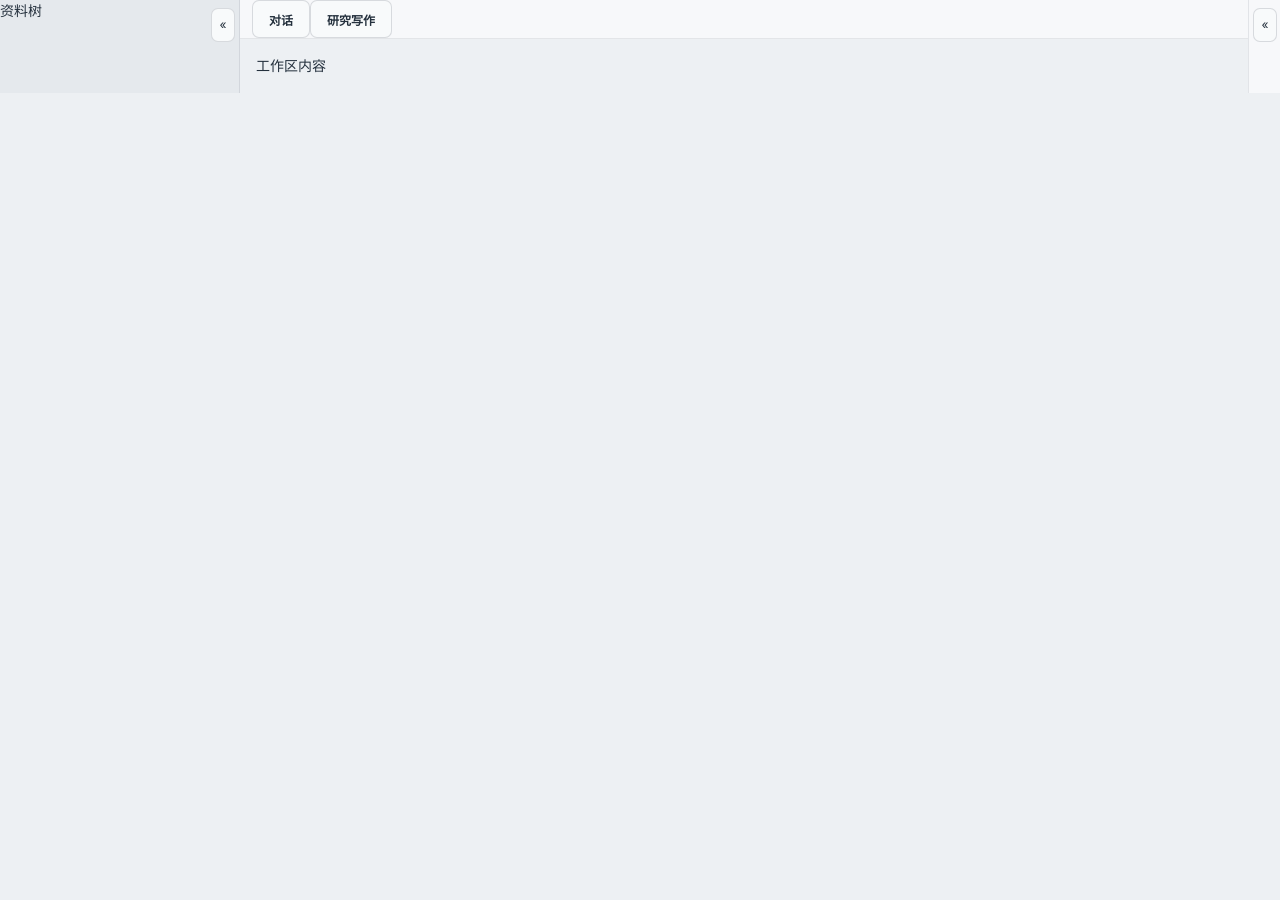
METIS-501 ProjectShell — collapse behavior › closes a responsive overlay with Escape and returns focus to its rail button
This screenshot has width=1280, height=900.
Click the button named "展开检查器" at (1265, 25), box x1=1253 y1=8 x2=1277 y2=42
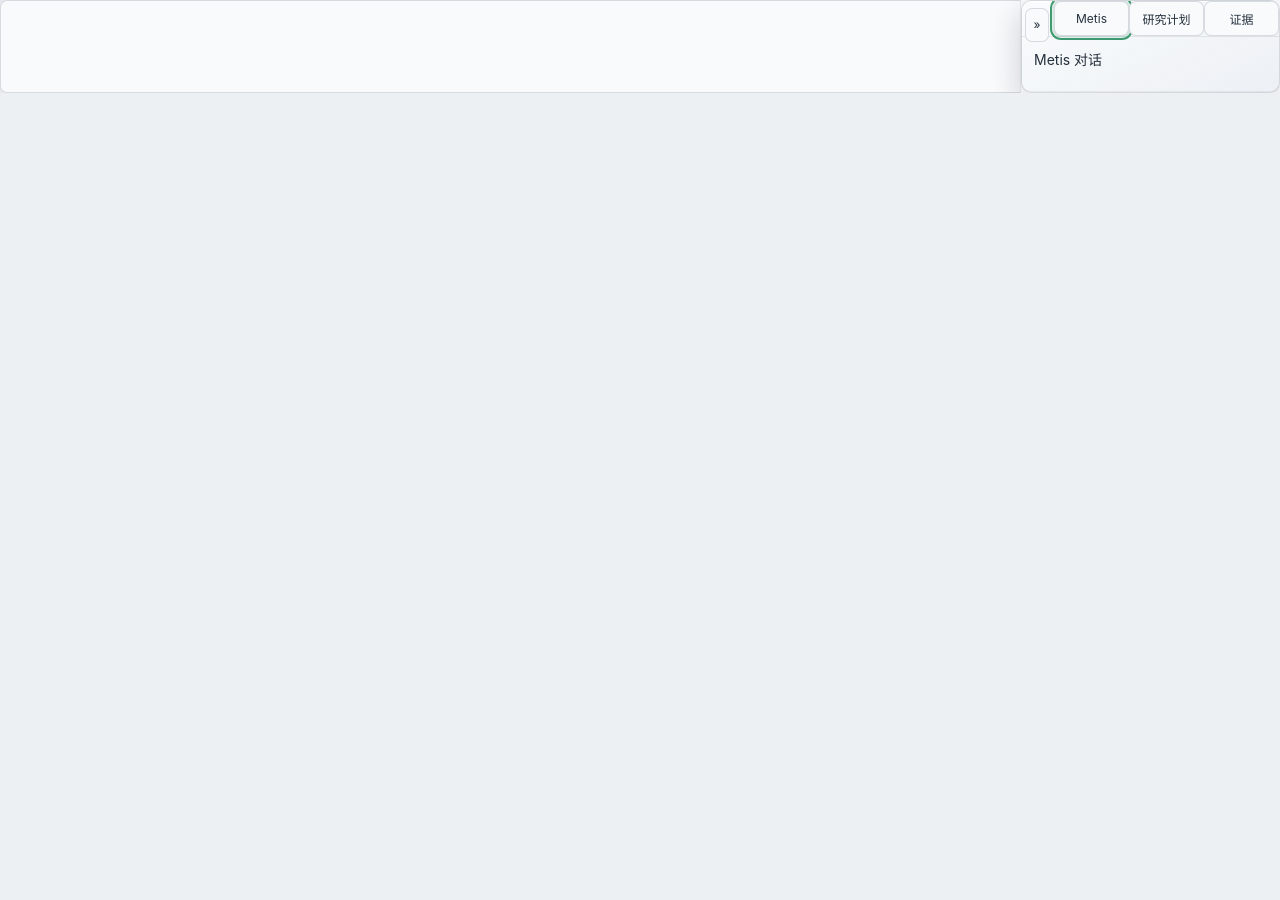
Expected: the dialog with test id "metis-panel" is shown
Press Escape in the dialog with test id "metis-panel", box x1=1021 y1=0 x2=1279 y2=93
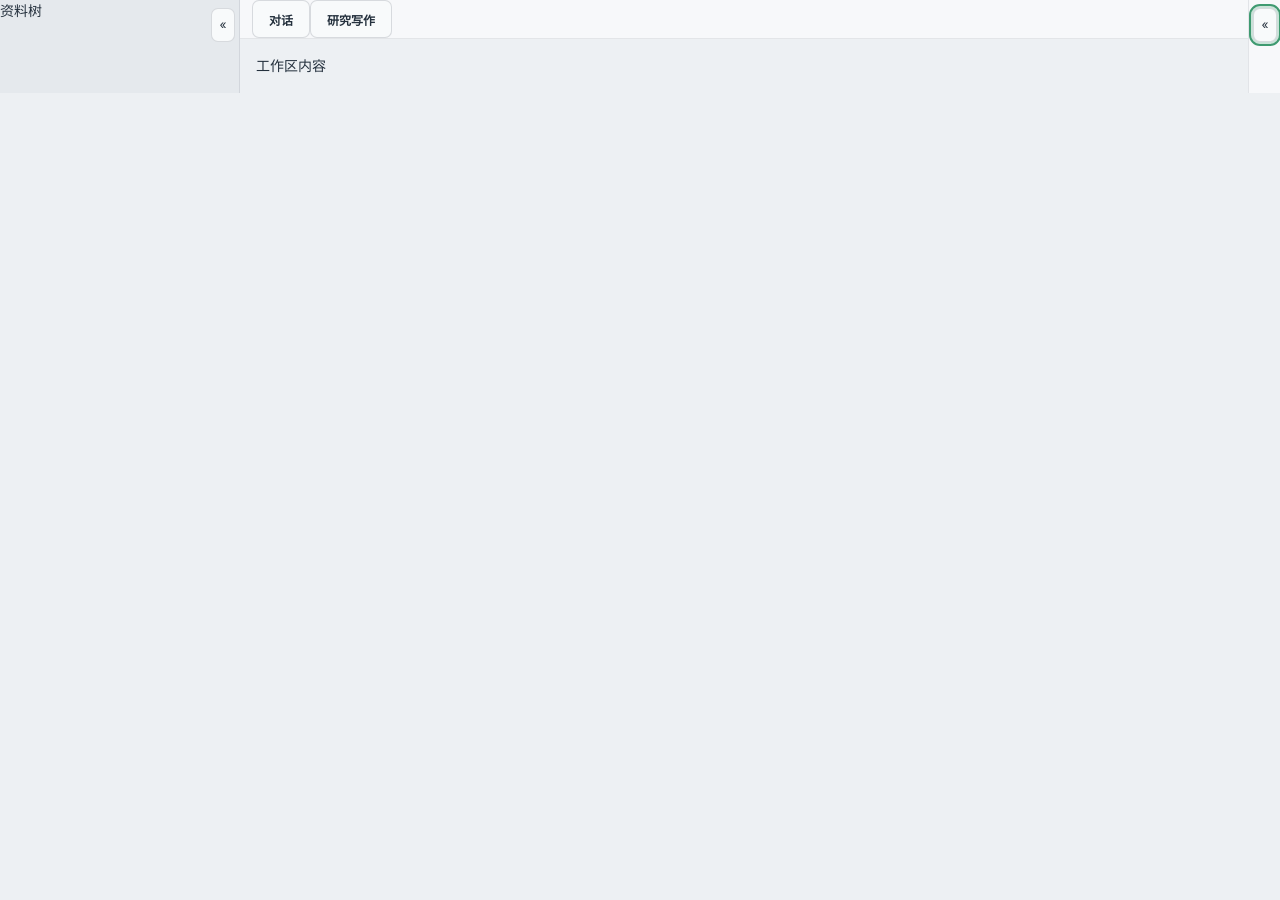
Expected: the text with test id "metis-panel" is gone
